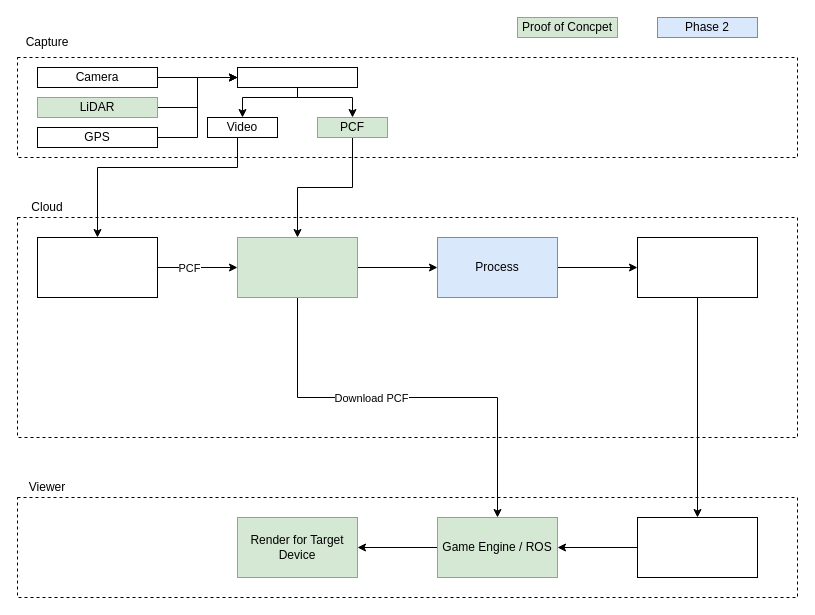
This 815x615 diagram has some shape labels left out. The shapes that lost their labels are listed below. From the top down, each one's centre as x and y in pixels, then its label:
At [297,77]: "Preprocess".
At [97,267]: "Video Processing".
At [297,267]: "Point Cloud Processing".
At [697,267]: "Light point Cloud+ (Location) + Classified Objects".
At [697,547]: "Search by location".
